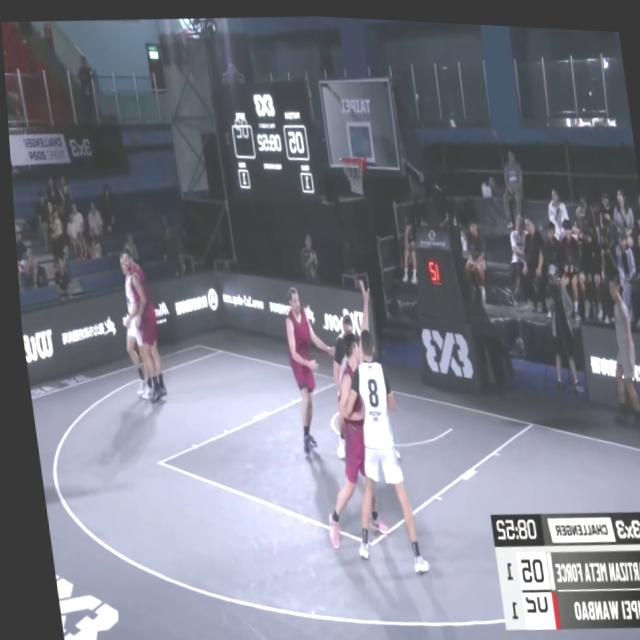hoop: (336, 148, 368, 194)
player: (325, 322, 421, 574), (295, 326, 402, 551), (312, 304, 395, 462), (274, 283, 344, 451), (118, 244, 164, 404), (110, 250, 154, 397)
